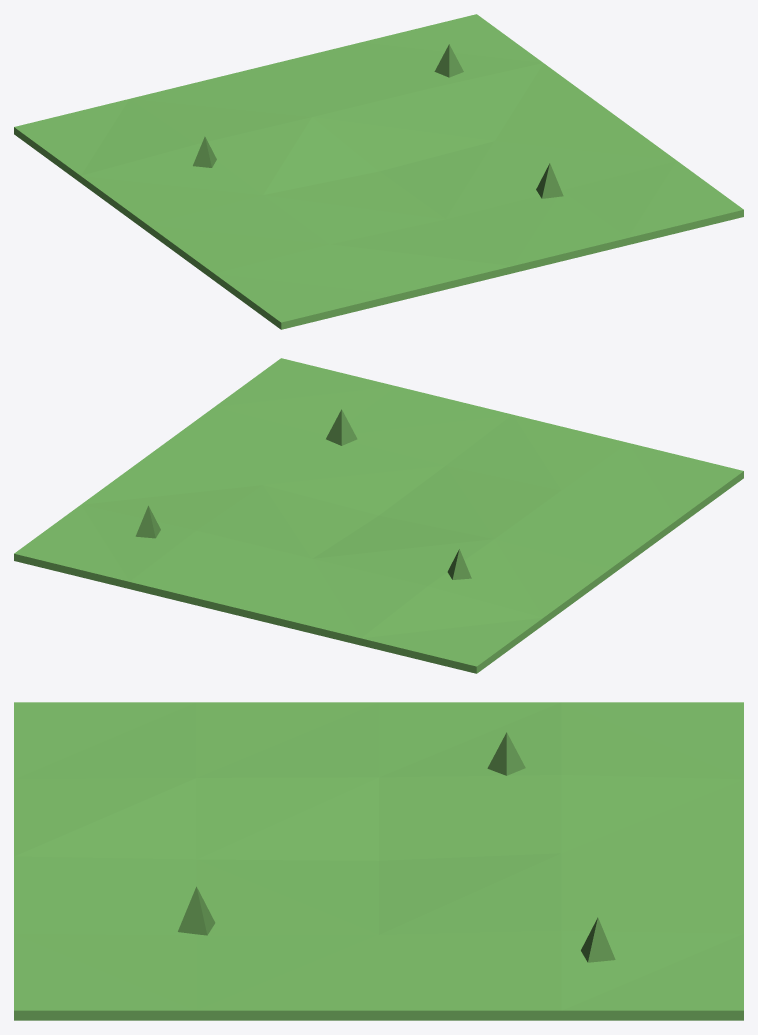
File: lantai_hutan_v001.glb
The picture shows the model from 3 angles, top to bottom: view 1: azimuth 30°, elevation 25°; view 2: azimuth 150°, elevation 25°; view 3: azimuth 270°, elevation 25°; orthographic projection. The views are drawn at different scales.
Parts seen in each view (by area): view 1: lantai_hutan; view 2: lantai_hutan; view 3: lantai_hutan.
Part boxes in pixels (x1,y1,x2,y2): lantai_hutan: (14, 14, 743, 329); lantai_hutan: (14, 358, 743, 673); lantai_hutan: (14, 702, 743, 1020).
Bounding box in the file's own units: 4 × 0.3 × 4.
